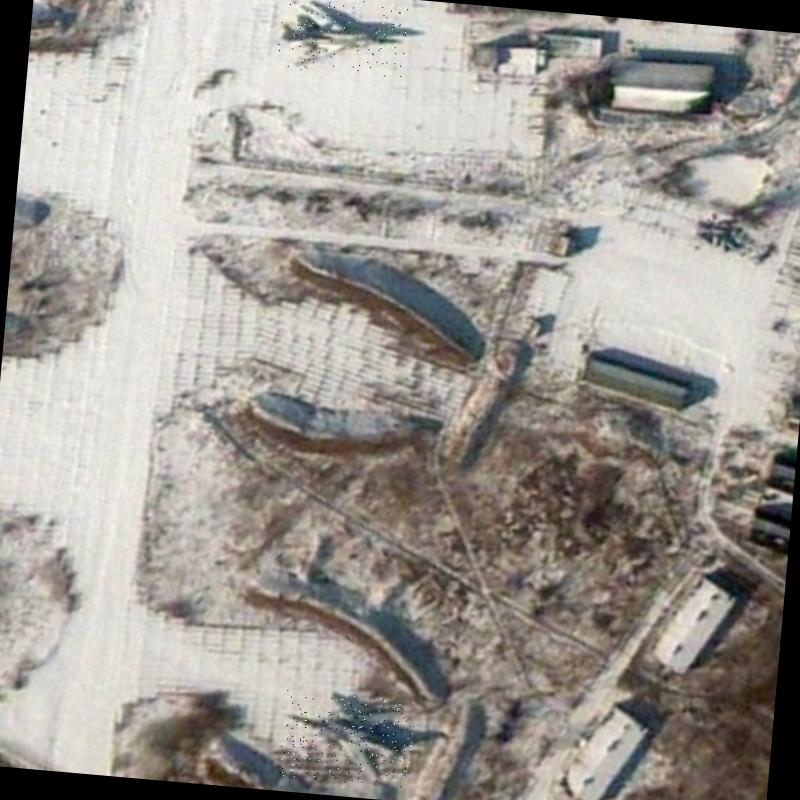A12: (278, 690, 416, 788), (276, 0, 408, 79)
